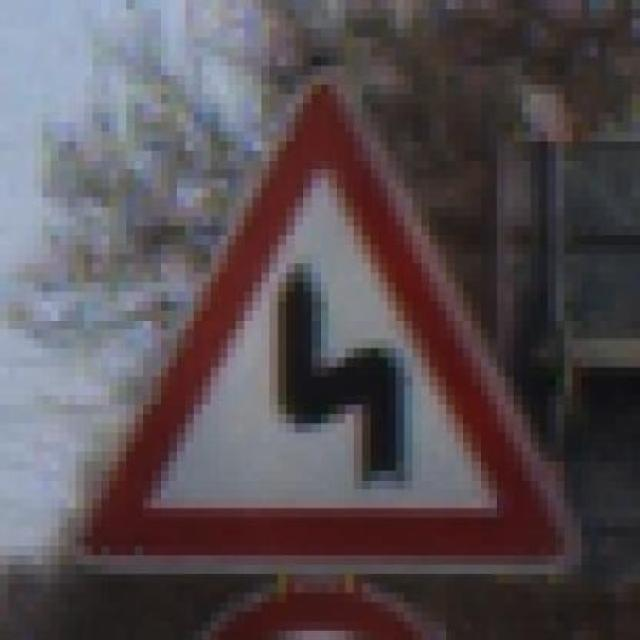Left Zig Zag Traffic: (67, 38, 598, 593)
